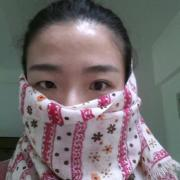OK: (24, 35, 126, 156)
